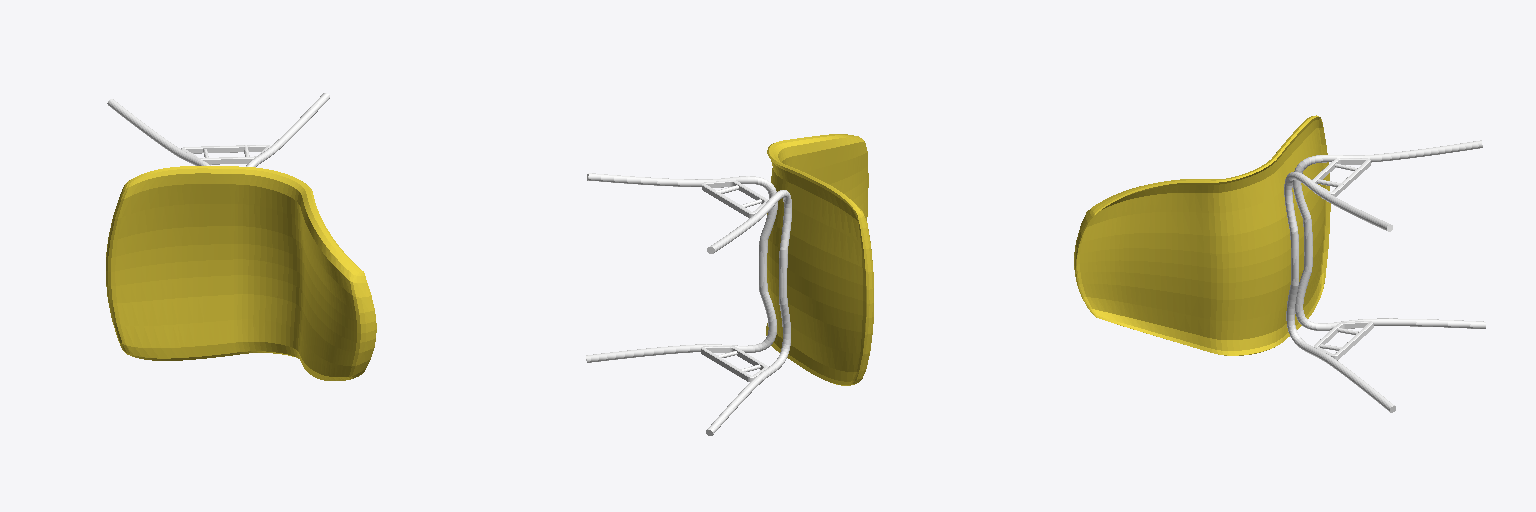
Rendered from bookchair.obj.
The picture shows the model from 3 angles: view 1: azimuth 30°, elevation 25°; view 2: azimuth 150°, elevation 25°; view 3: azimuth 270°, elevation 25°; orthographic projection.
Parts seen in each view (by area): view 1: Object.1, Object.2, Object.5, Object.3; view 2: Object.1, Object.3, Object.2, Object.7, Object.5; view 3: Object.1, Object.2, Object.3, Object.7, Object.5.
Part boxes in pixels (bbox=[...]): Object.1: bbox=[106, 166, 376, 380]; Object.2: bbox=[107, 99, 210, 165]; Object.5: bbox=[181, 145, 270, 164]; Object.3: bbox=[246, 93, 329, 166]; Object.1: bbox=[766, 134, 873, 385]; Object.3: bbox=[586, 173, 777, 362]; Object.2: bbox=[706, 190, 791, 435]; Object.7: bbox=[701, 346, 767, 381]; Object.5: bbox=[702, 181, 767, 217]; Object.1: bbox=[1074, 115, 1330, 355]; Object.2: bbox=[1293, 140, 1485, 330]; Object.3: bbox=[1284, 172, 1395, 412]; Object.7: bbox=[1314, 321, 1373, 360]; Object.5: bbox=[1312, 158, 1370, 196].
Bounding box in the file's own units: 252 × 184 × 352.